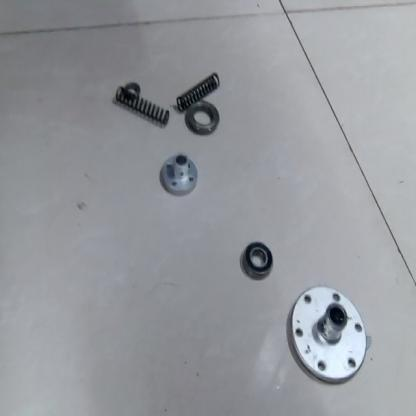FOD: (286, 280, 370, 384), (114, 84, 172, 127), (155, 148, 201, 197), (176, 70, 222, 114), (237, 238, 275, 279), (185, 96, 223, 135), (122, 78, 144, 102)
